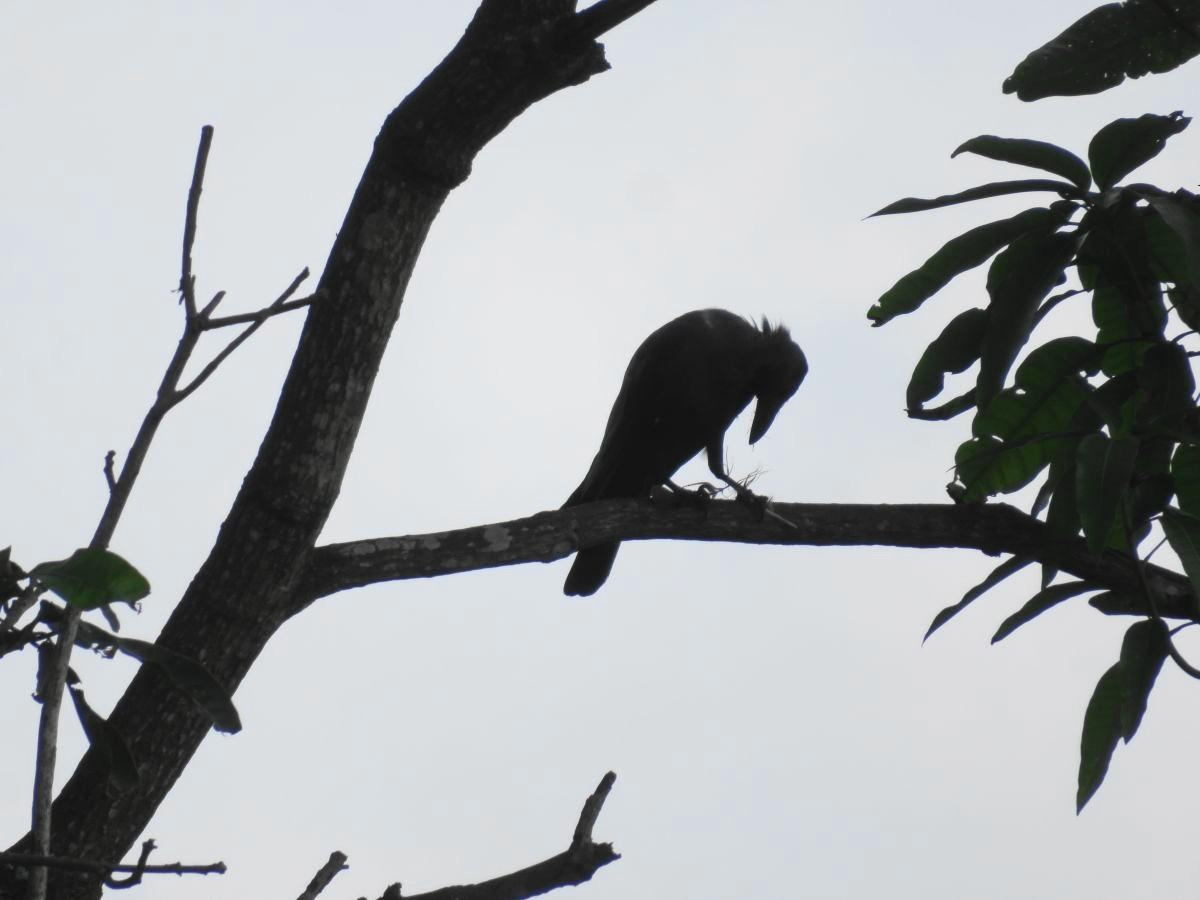crow: (525, 296, 821, 581)
